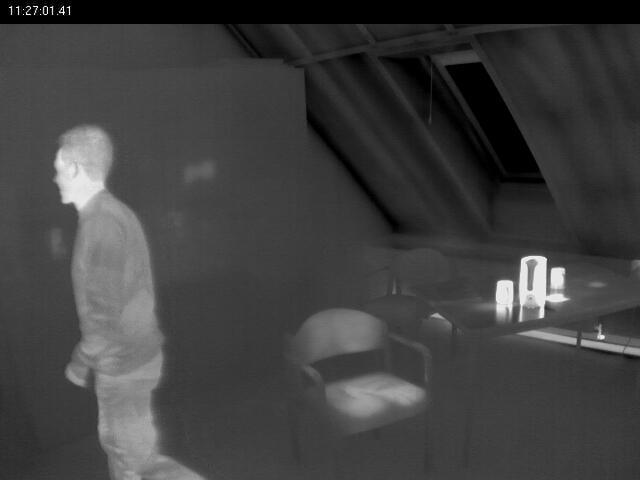person: (31, 117, 176, 479)
